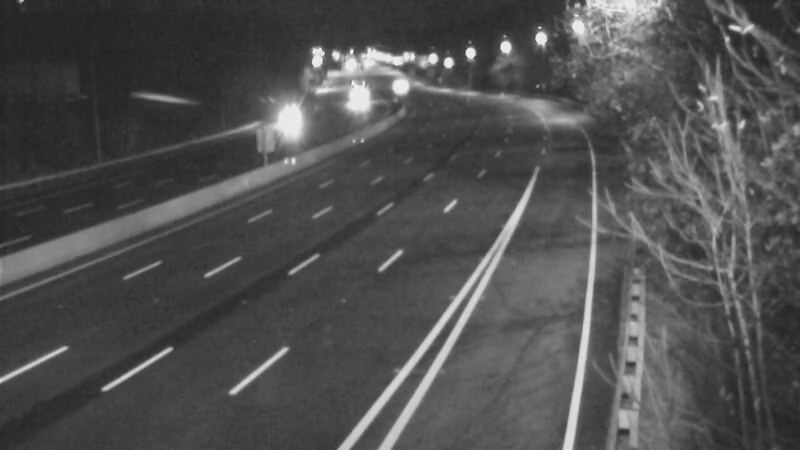vehicle: (368, 58, 418, 108), (265, 94, 315, 144), (331, 76, 381, 126)
